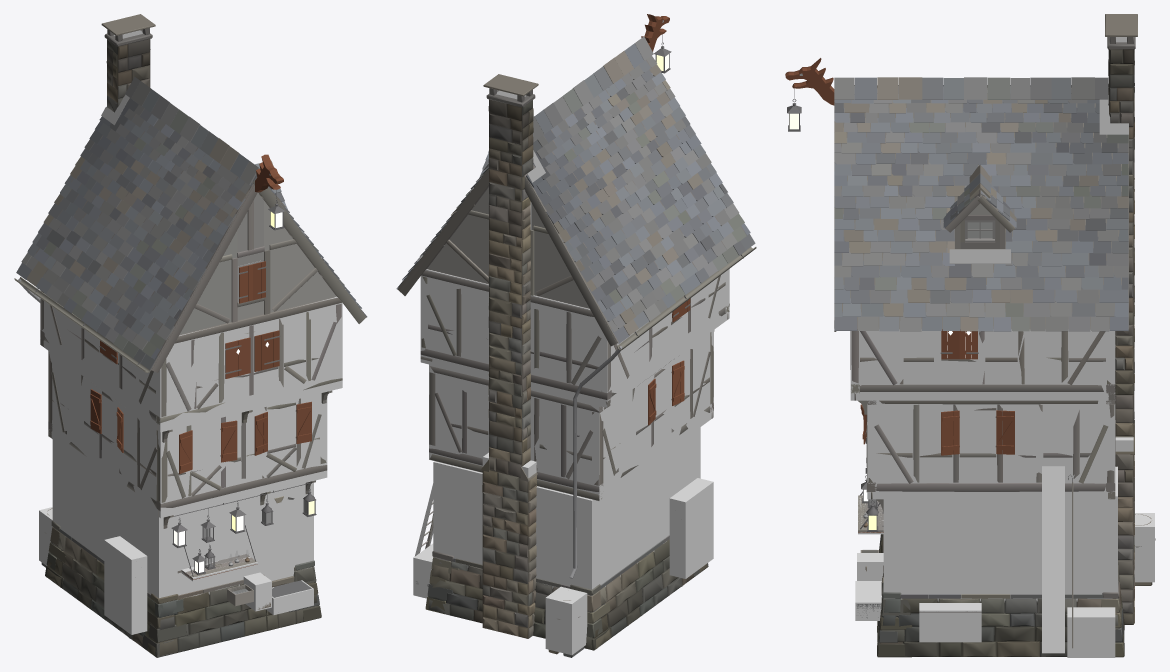
The model's file is lamplighter.glb.
3 views of the same model, side by side, from view 1: azimuth 30°, elevation 25°; view 2: azimuth 150°, elevation 25°; view 3: azimuth 270°, elevation 25° (orthographic). The views are drawn at different scales.
Visible parts, largest first — view 1: Roof slates, Stone storey solid, Storey 3 solid, Storey 5 solid, Frame / tav_oak, Plinth, Plaster, Shutters / tav_paint, Candle rack solid, Roof / tav_oak, Stack / tav_stone, Roof / tav_board (+9 smaller); view 2: Roof slates, Stack / tav_stone, Stone storey solid, Storey 3 solid, Storey 5 solid, Frame / tav_oak, Plinth, Plaster, Candle rack solid, Roof / tav_oak, Butt solid, Roof / tav_board (+7 smaller); view 3: Roof slates, Stone storey solid, Storey 3 solid, Storey 5 solid, Frame / tav_oak, Plinth, Stack / tav_stone, Ladder solid, Roof / tav_board, Shutters / tav_paint, Bench solid, Woodpile solid (+6 smaller).
Part boxes in pixels (x1,y1,x2,y2): Roof slates: (16, 77, 367, 370); Stone storey solid: (52, 439, 313, 604); Storey 3 solid: (48, 351, 327, 518); Storey 5 solid: (40, 260, 342, 432); Frame / tav_oak: (40, 192, 342, 507); Plinth: (45, 520, 321, 657); Plaster: (179, 193, 336, 334); Shutters / tav_paint: (90, 261, 311, 473); Candle rack solid: (104, 536, 147, 634); Roof / tav_oak: (151, 177, 366, 372); Stack / tav_stone: (104, 28, 152, 112); Roof / tav_board: (36, 98, 254, 368); Roof slates: (396, 36, 755, 343); Stack / tav_stone: (481, 88, 537, 638); Stone storey solid: (433, 427, 700, 595); Storey 3 solid: (429, 330, 713, 500); Storey 5 solid: (420, 269, 729, 407); Frame / tav_oak: (420, 186, 725, 491); Plinth: (425, 535, 708, 650); Plaster: (427, 187, 589, 308); Candle rack solid: (669, 478, 713, 578); Roof / tav_oak: (397, 168, 618, 346); Butt solid: (545, 586, 587, 655); Roof / tav_board: (524, 59, 744, 341); Roof slates: (834, 77, 1128, 331); Stone storey solid: (883, 466, 1117, 601); Storey 3 solid: (867, 400, 1115, 499); Storey 5 solid: (850, 329, 1115, 400); Frame / tav_oak: (850, 196, 1115, 491); Plinth: (877, 534, 1124, 657); Stack / tav_stone: (1107, 37, 1135, 624); Ladder solid: (1042, 466, 1064, 653); Roof / tav_board: (834, 87, 1128, 329); Shutters / tav_paint: (860, 329, 1014, 455); Bench solid: (919, 603, 981, 642); Woodpile solid: (1067, 607, 1115, 657).
Size of the model in its own units: 6.47 by 14.2 by 8.09.
